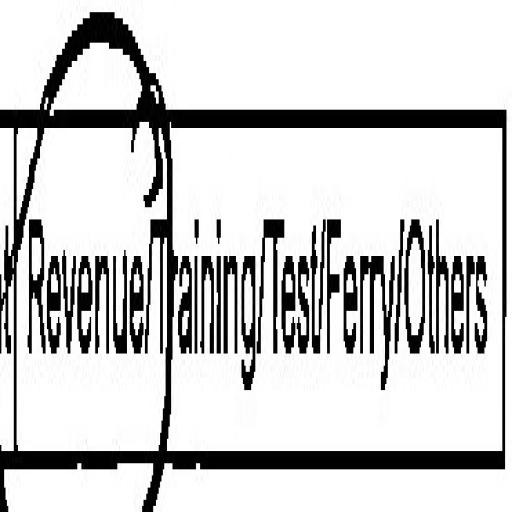check: (14, 7, 152, 512)
